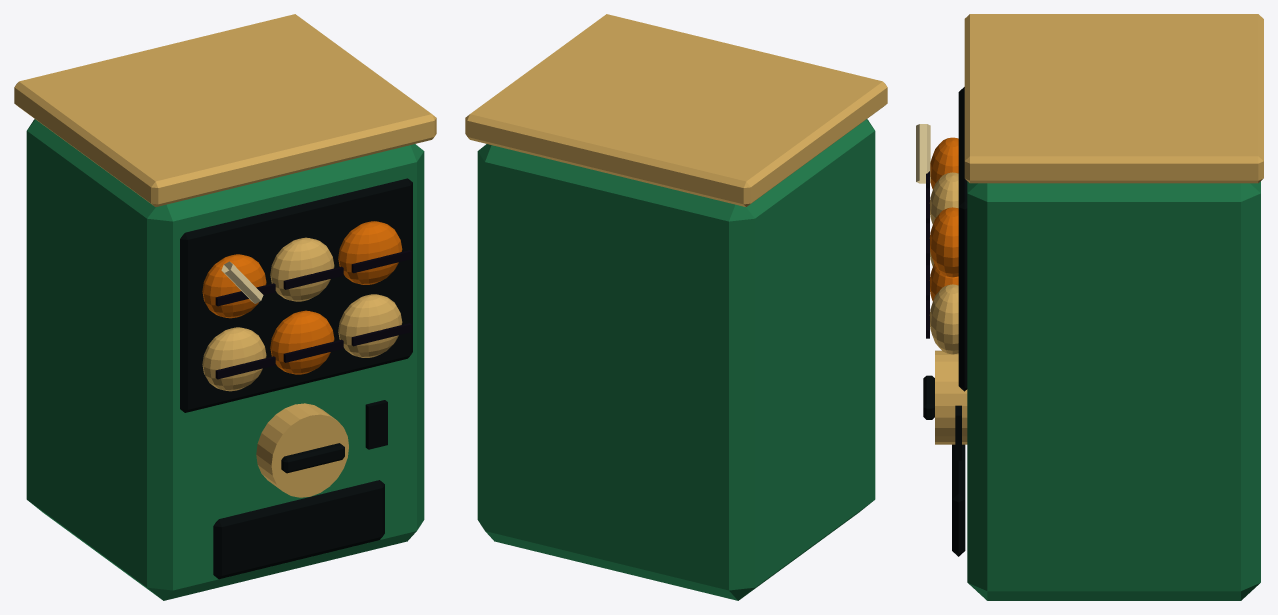
Rendered from mall_r5_capsule_small.fbx.
3 views of the same model, side by side, from view 1: azimuth 30°, elevation 25°; view 2: azimuth 150°, elevation 25°; view 3: azimuth 270°, elevation 25° (orthographic). The views are drawn at different scales.
Visible parts, largest first — view 1: Part_0, Part_-1; view 2: Part_0, Part_-1; view 3: Part_0, Part_-1.
Boxes of the visible parts, left/top/right/bottom form: Part_0: left=14, top=14, right=436, bottom=590; Part_-1: left=29, top=447, right=416, bottom=600; Part_0: left=465, top=14, right=887, bottom=590; Part_-1: left=485, top=501, right=872, bottom=600; Part_0: left=916, top=14, right=1263, bottom=591; Part_-1: left=935, top=428, right=1259, bottom=600.
Bounding box in the file's own units: 1.6 × 2.3 × 1.6.
